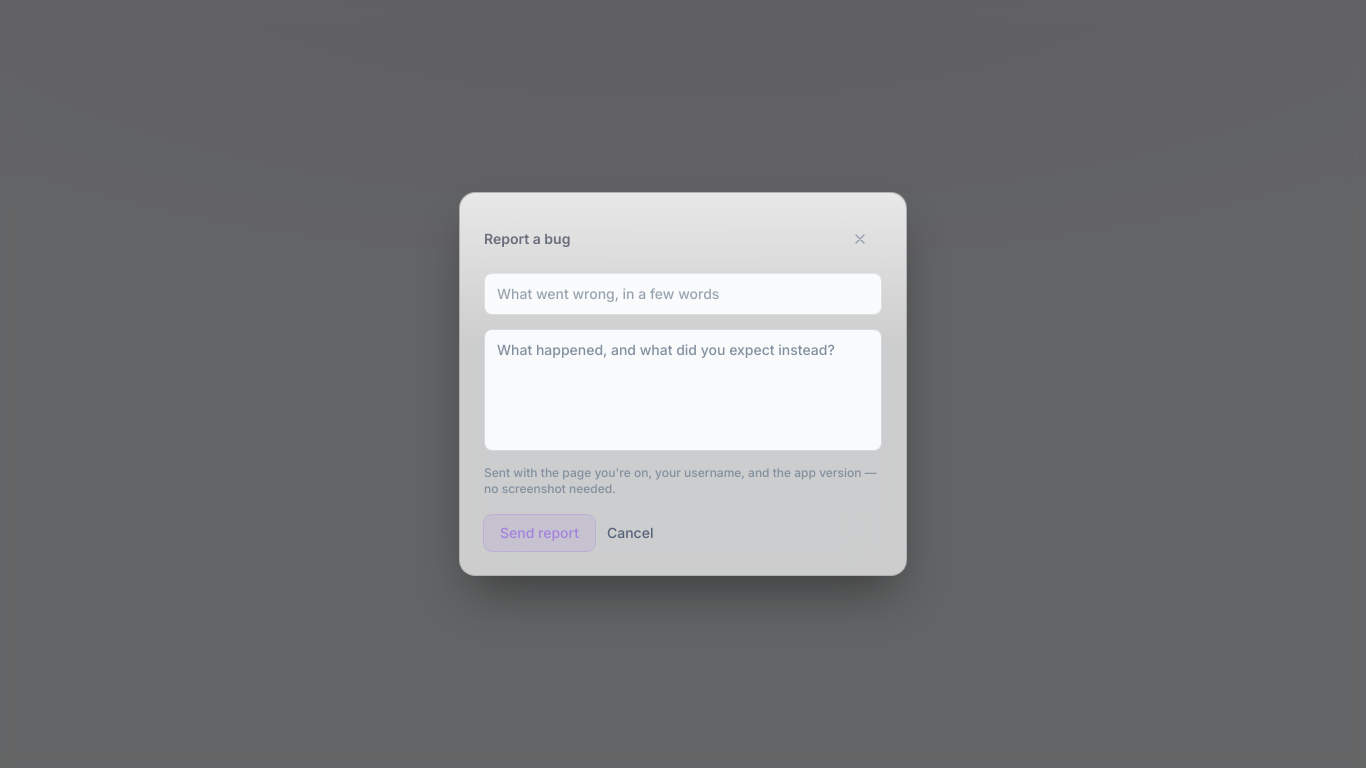
it: ReportBugPanel › disables Send report until both fields are filled
The image size is (1366, 768).
Expected: the button "Send report" is disabled, top-left (484, 515), bottom-right (595, 551)
Type "Title" into the field named "Bug title" at (683, 294), box top-left (484, 273), bottom-right (882, 315)
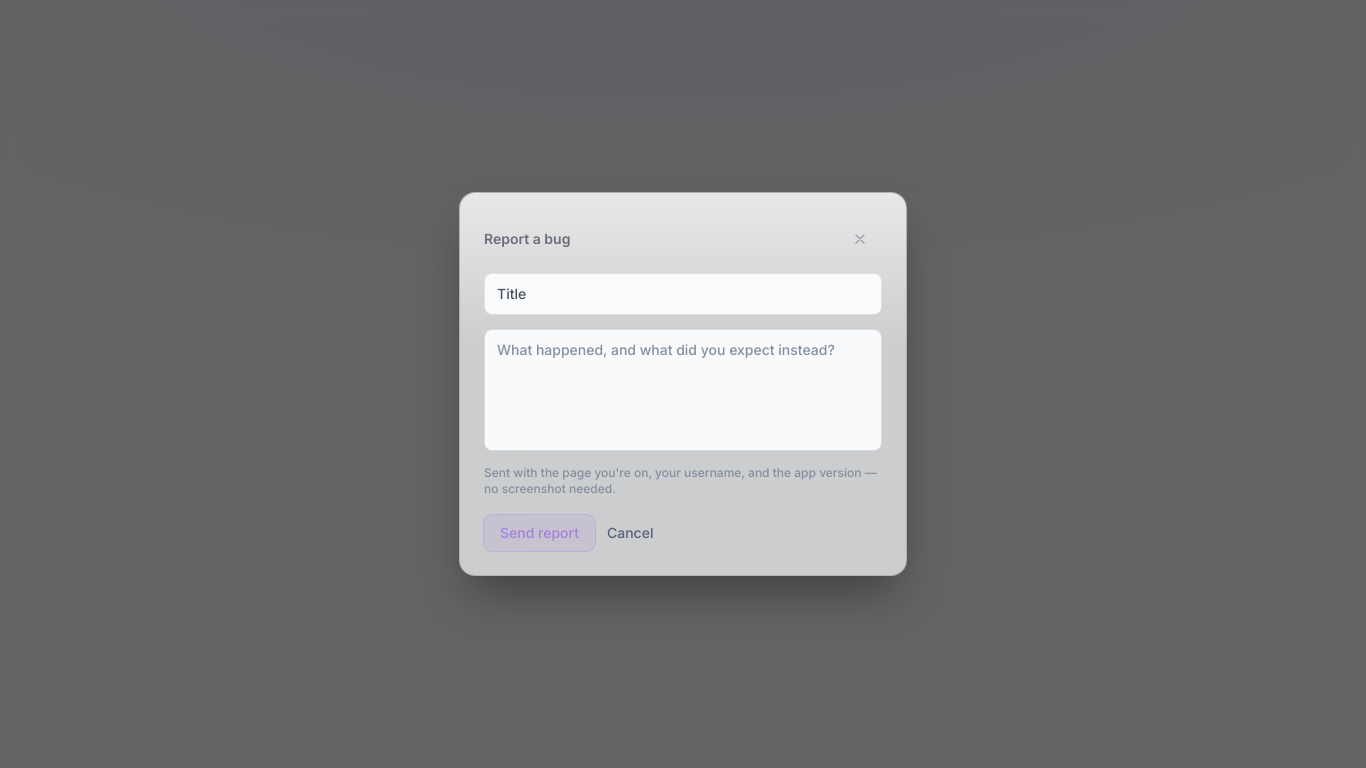
Expected: the button "Send report" is disabled, top-left (484, 515), bottom-right (595, 551)
Type "Description" into the text box named "Bug description" at (683, 390), box top-left (484, 329), bottom-right (882, 451)
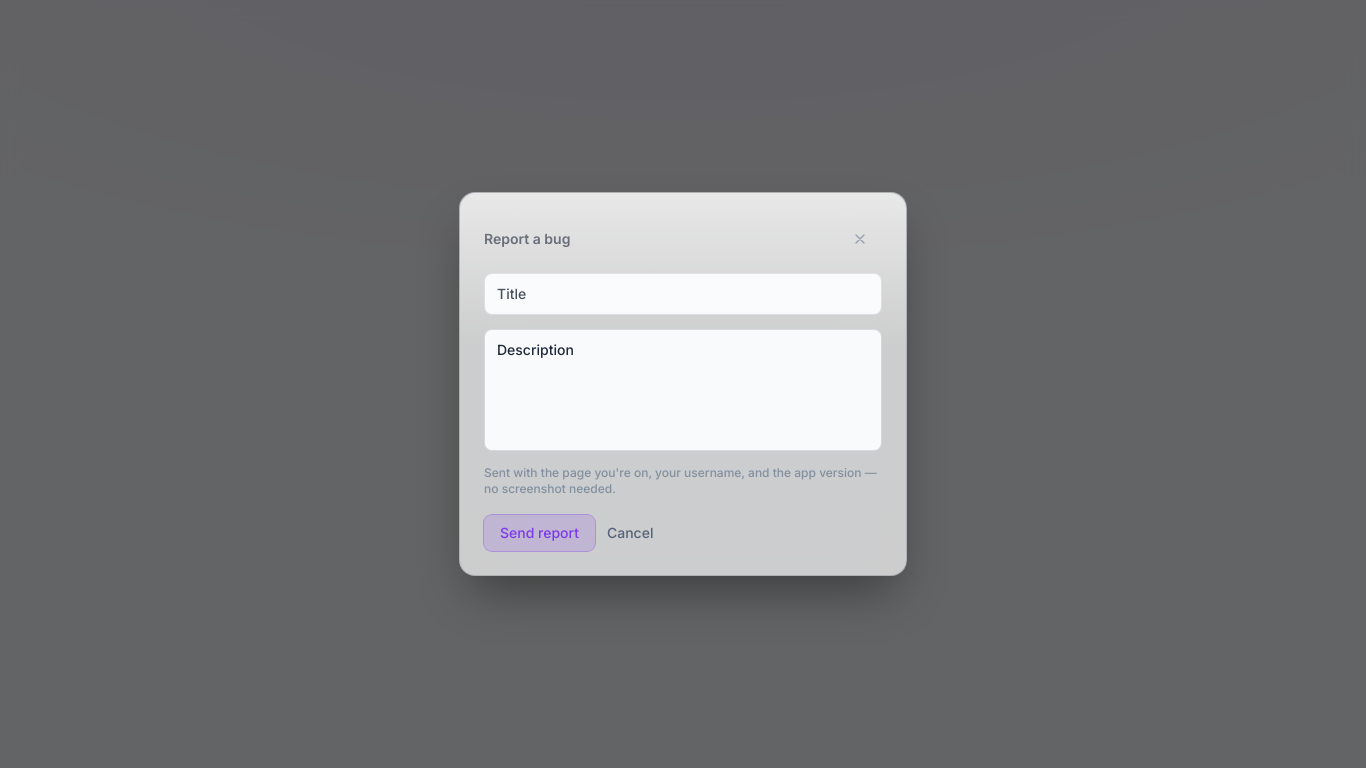
Now the button "Send report" is enabled, box top-left (484, 515), bottom-right (595, 551)
